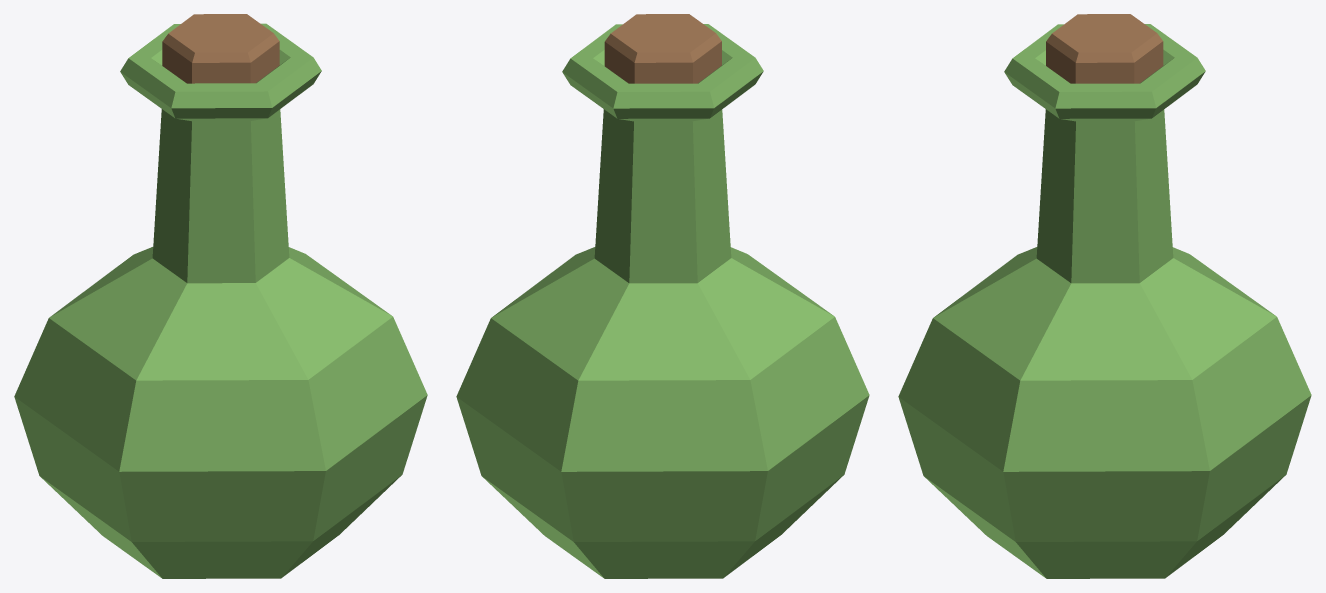
The model's file is Green_Potion_11.fbx.
3 renders of one model, left to right at view 1: azimuth 30°, elevation 25°; view 2: azimuth 150°, elevation 25°; view 3: azimuth 270°, elevation 25°, orthographic.
Parts seen in each view (by area): view 1: Green_Potion_11; view 2: Green_Potion_11; view 3: Green_Potion_11.
Boxes of the visible parts, x1,y1,x2,y2 form: Green_Potion_11: (14, 14, 427, 578); Green_Potion_11: (456, 14, 869, 578); Green_Potion_11: (898, 14, 1311, 578).
Size of the model in its own units: 18.05 by 27.78 by 20.73.
